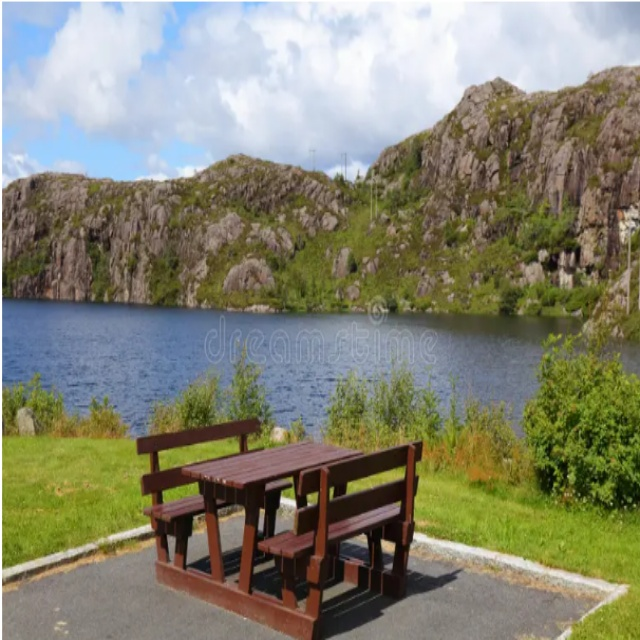obstacle: (133, 409, 425, 632)
